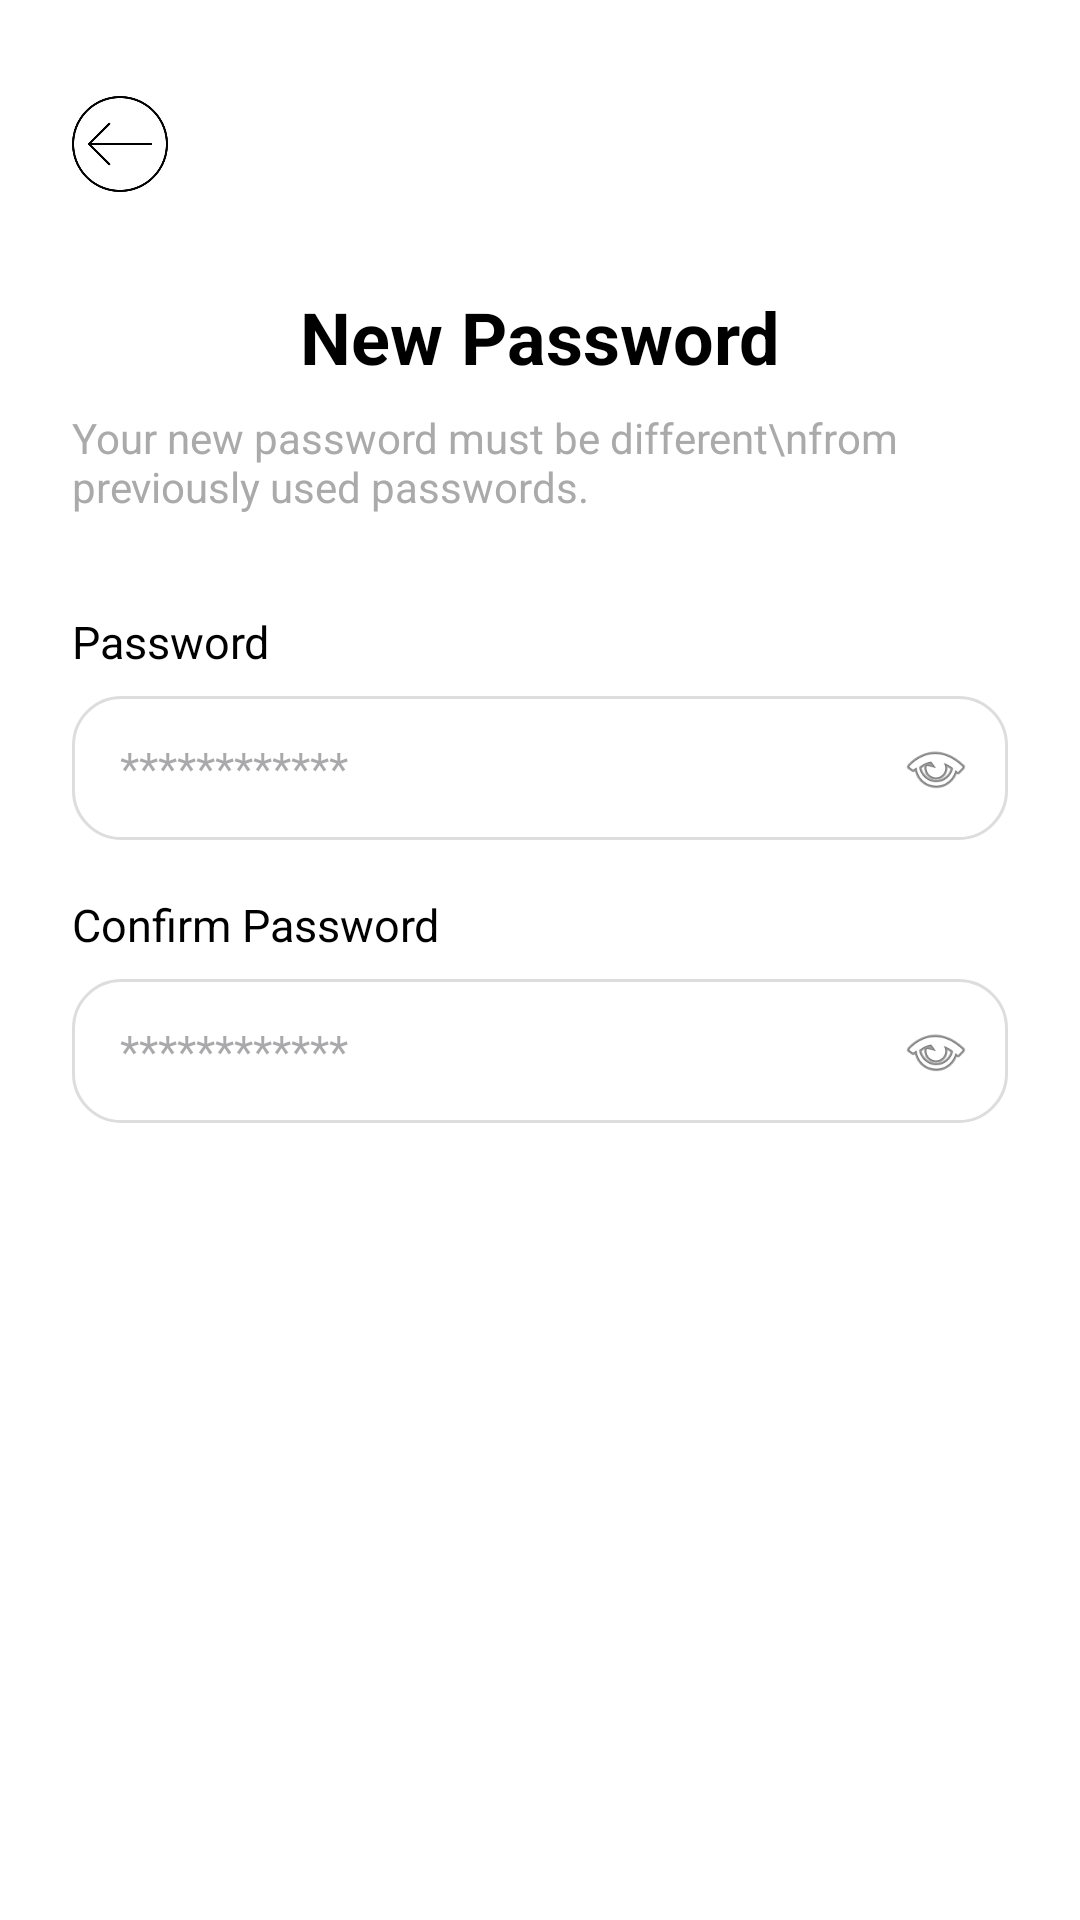

Screen size 1080*1920. Icon name, then its box in pixels as box=[x1, y1, x2, y2]:
Back: box=[72, 96, 168, 192]
Show/Hide Password: box=[907, 751, 965, 788], box=[907, 1034, 965, 1071]
